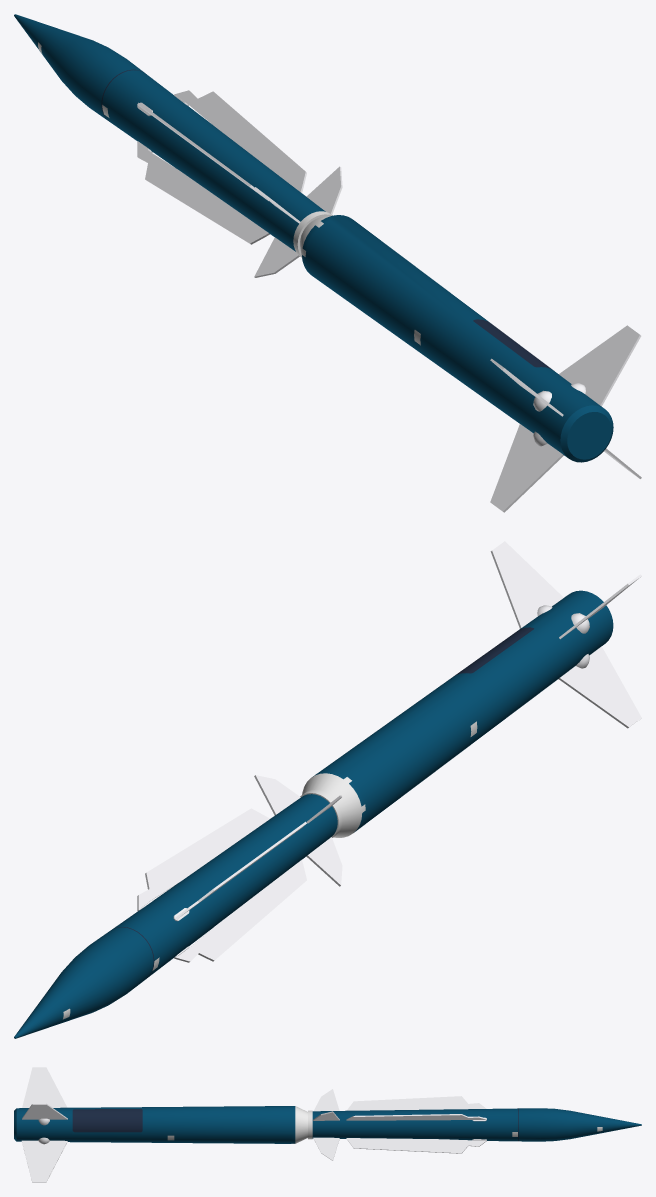
File: vertical_launch_missile.glb
3 views of the same model, one above another, from view 1: azimuth 30°, elevation 25°; view 2: azimuth 150°, elevation 25°; view 3: azimuth 270°, elevation 25° (orthographic). The views are drawn at different scales.
Parts seen in each view (by area): view 1: Barrel_0, TopFin2_9, TopFin4_11, BottomFin2_2, BottomFin4_4, MidFin2_8, MidFin4_6; view 2: Barrel_0, TopFin4_11, TopFin2_9, BottomFin2_2, BottomFin4_4, MidFin2_8, MidFin4_6; view 3: Barrel_0, TopFin1_10, TopFin3_12, BottomFin1_1, BottomFin3_3, TopFin4_11, BottomFin4_4, MidFin1_5, MidFin3_7.
Boxes of the visible parts, <box> form: Barrel_0: <box>14,14,613,462</box>; TopFin2_9: <box>137,141,269,244</box>; TopFin4_11: <box>174,90,306,192</box>; BottomFin2_2: <box>490,424,563,512</box>; BottomFin4_4: <box>559,325,641,406</box>; MidFin2_8: <box>254,237,299,277</box>; MidFin4_6: <box>306,166,342,214</box>; Barrel_0: <box>14,590,613,1038</box>; TopFin4_11: <box>137,808,269,910</box>; TopFin2_9: <box>174,860,306,962</box>; BottomFin2_2: <box>558,646,641,728</box>; BottomFin4_4: <box>490,541,563,628</box>; MidFin2_8: <box>306,837,342,886</box>; MidFin4_6: <box>254,775,300,815</box>; Barrel_0: <box>14,1106,641,1143</box>; TopFin1_10: <box>346,1138,486,1153</box>; TopFin3_12: <box>347,1096,486,1110</box>; BottomFin1_1: <box>21,1137,67,1182</box>; BottomFin3_3: <box>22,1067,67,1107</box>; TopFin4_11: <box>346,1114,486,1121</box>; BottomFin4_4: <box>22,1103,67,1125</box>; MidFin1_5: <box>313,1137,339,1160</box>; MidFin3_7: <box>314,1089,339,1111</box>.
Bounding box in the file's own units: 12.52 × 12.49 × 89.73.
